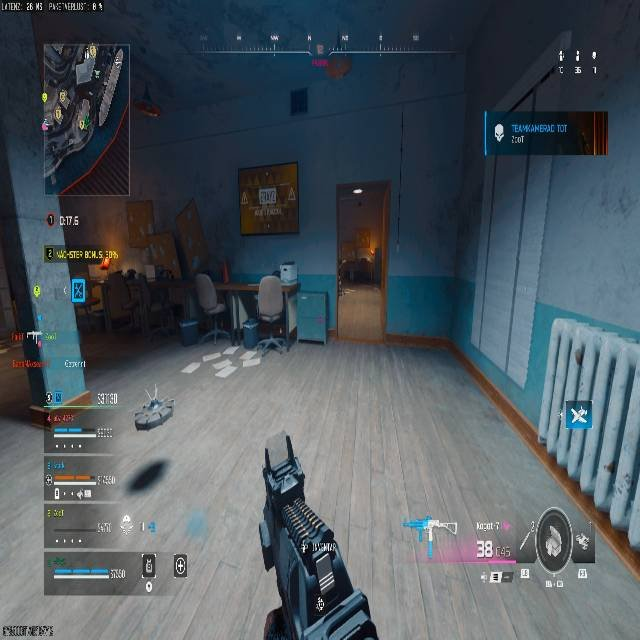player: (133, 396, 174, 432)
